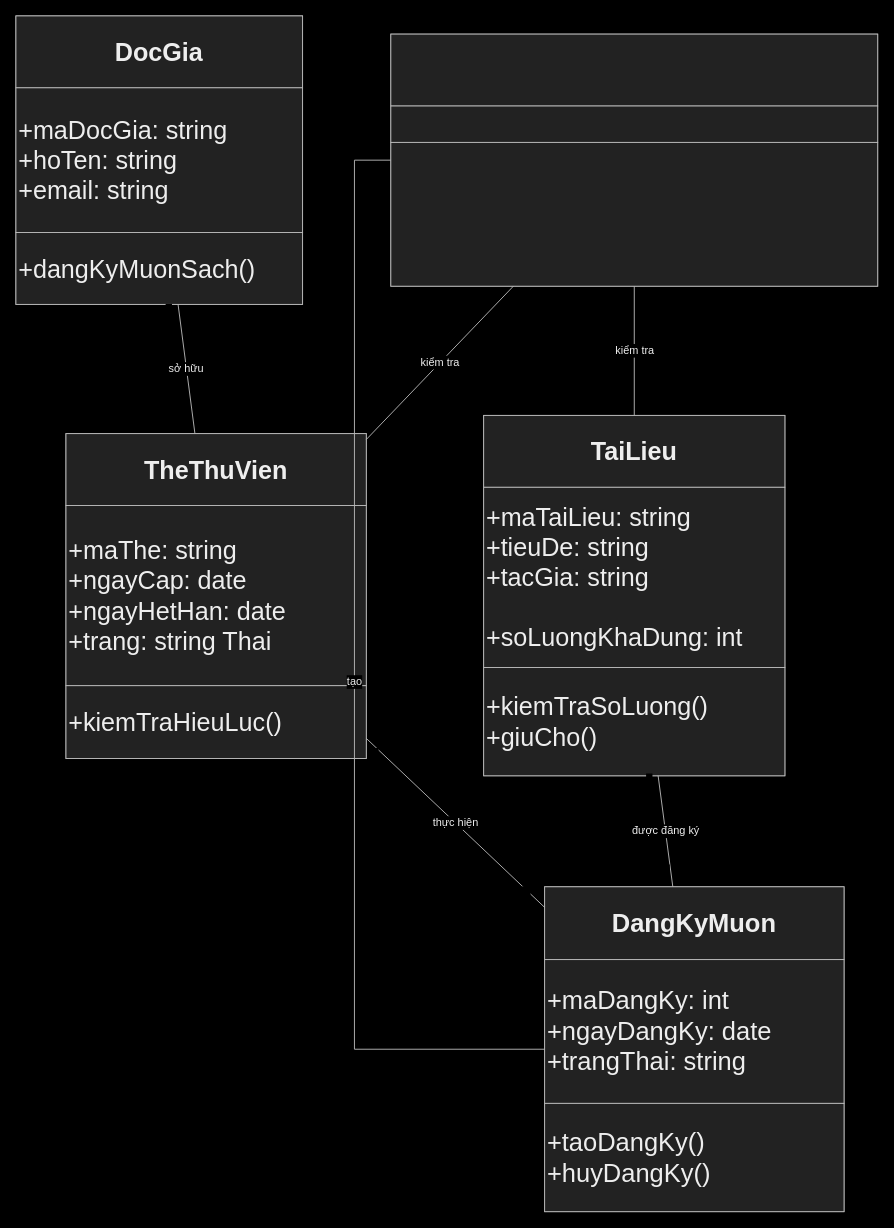
The diagram is 894 pixels wide and 1228 high, and some of its shapes have lost their labels. Here are the shapes that lost their labels. From the top down, the centre of each, then its label:
At (634,69): "MuonSachService".
At (634,214): "+kiemTraThe(maThe) +kiemTraSach(maTaiLieu) +dangKyMuon(maThe, maTaiLieu)".
